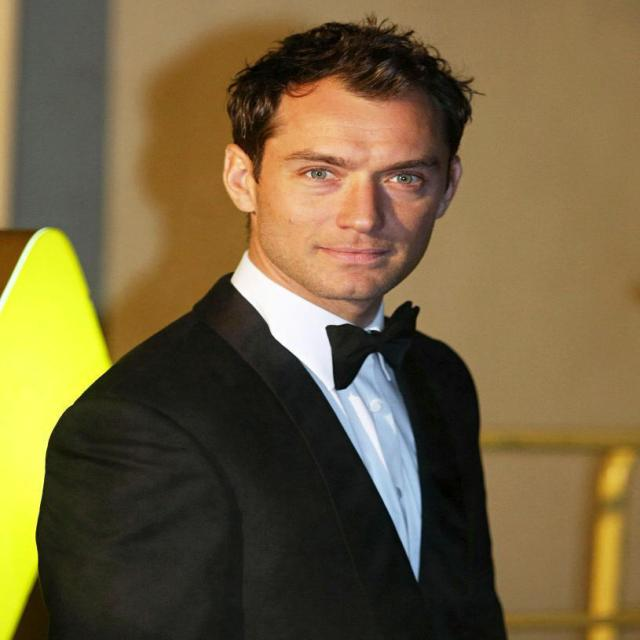no-earmuff: (204, 131, 275, 224), (428, 144, 479, 230)
